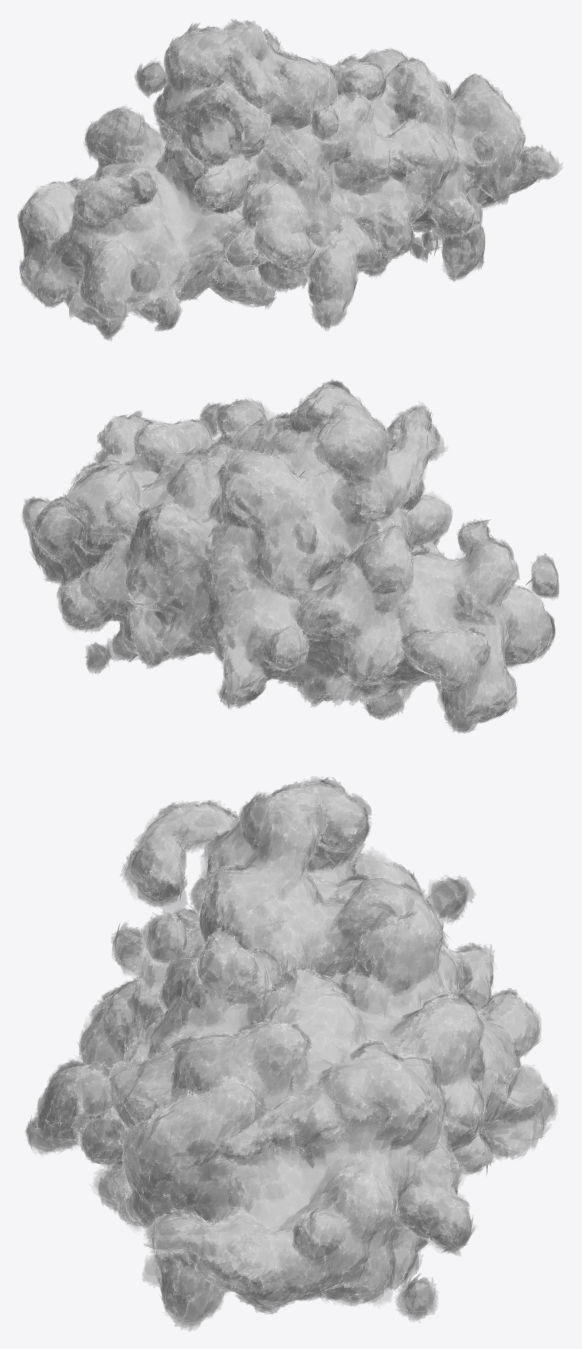
Rendered from cloud.glb.
The picture shows the model from 3 angles, top to bottom: view 1: azimuth 30°, elevation 25°; view 2: azimuth 150°, elevation 25°; view 3: azimuth 270°, elevation 25°; orthographic projection. The views are drawn at different scales.
Visible parts, largest first — view 1: Cloud GN.001_2; view 2: Cloud GN.001_2; view 3: Cloud GN.001_2.
Part boxes in pixels (x1,y1,x2,y2): Cloud GN.001_2: (17, 19, 562, 340); Cloud GN.001_2: (21, 379, 558, 733); Cloud GN.001_2: (25, 776, 557, 1331).
Bounding box in the file's own units: 11.15 × 6.39 × 7.58.
1 material, 1 textured.
